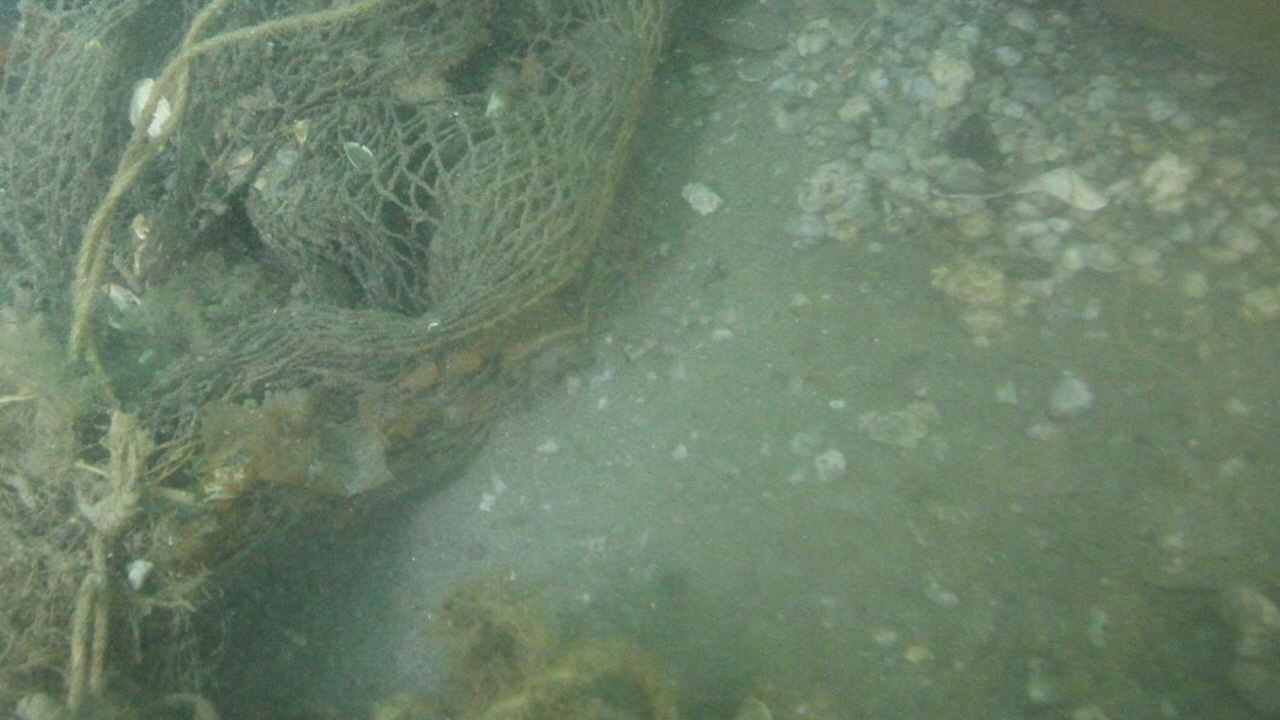fish net: (0, 0, 663, 486)
